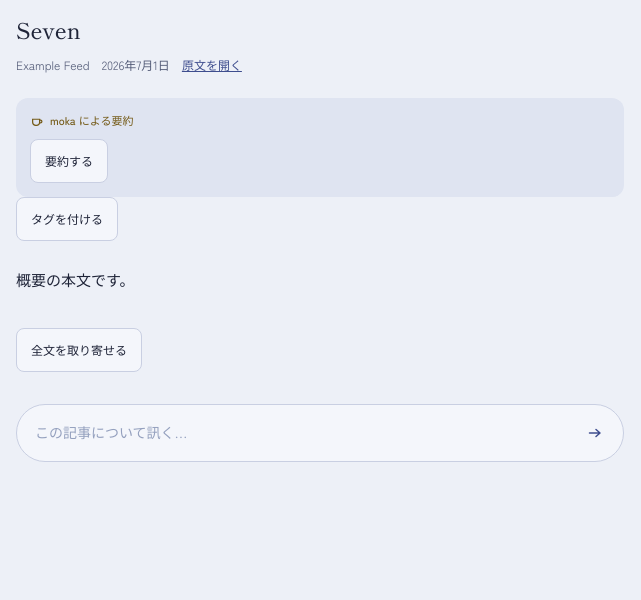
Scenario: articles/[id] reading view — 全文取り寄せ › renders the fetched full text as real structure — heading, list and code block
Click the button "全文を取り寄せる".
click(79, 350)  # box [16,328,142,372]
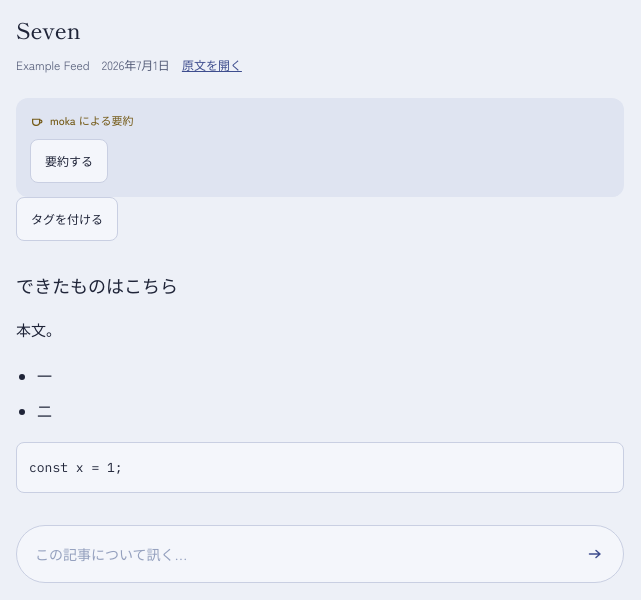
Check: the heading "できたものはこちら" is shown, box [16,272,178,298]
Check: the list is shown, box [37,365,52,421]
Check: the list item "一" is shown, box [37,365,52,386]
